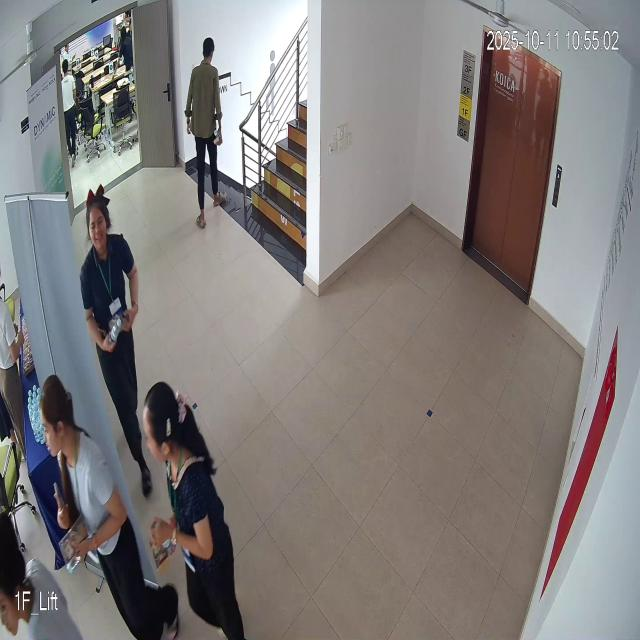face: (84, 181, 116, 268)
